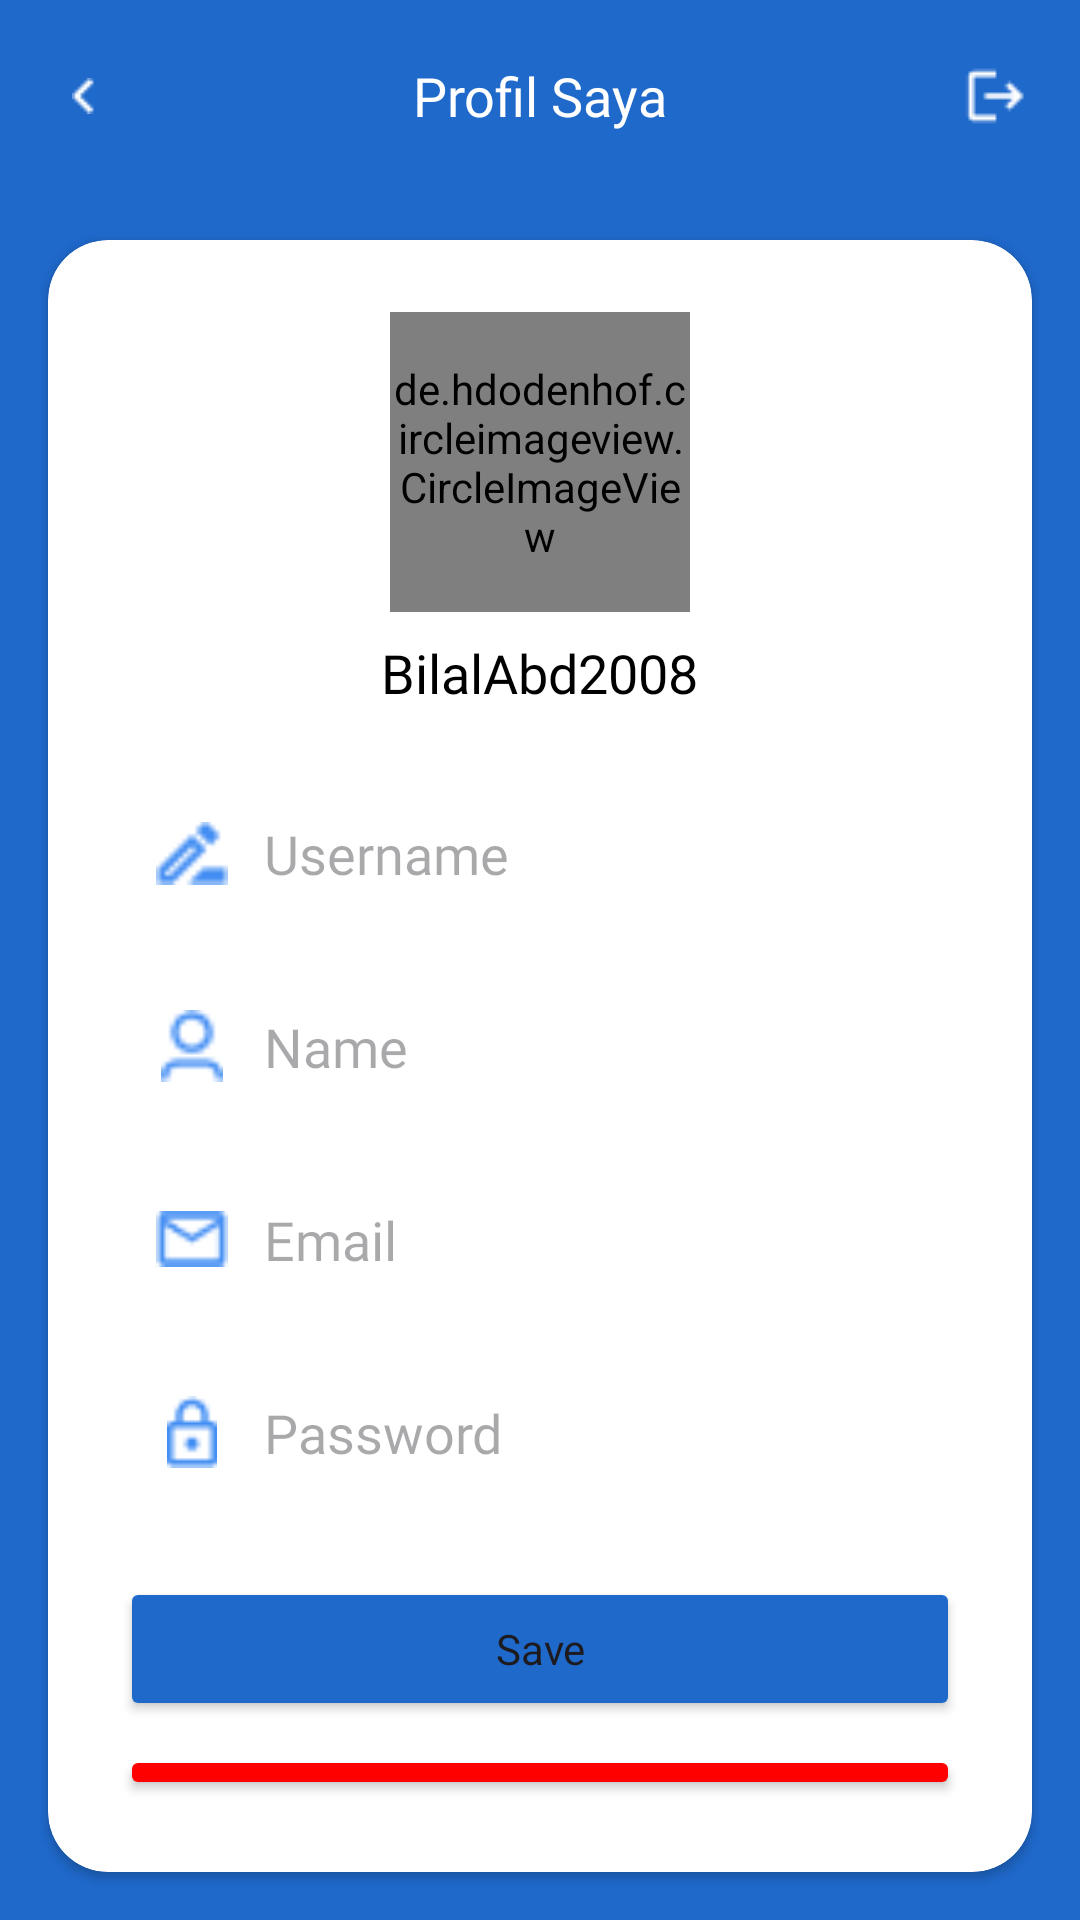

Icon click points for this 1080x1920 phone screenshot, format point (x, y):
balikputih: point (83, 96)
passikon: point (192, 1432)
userikon: point (192, 1046)
